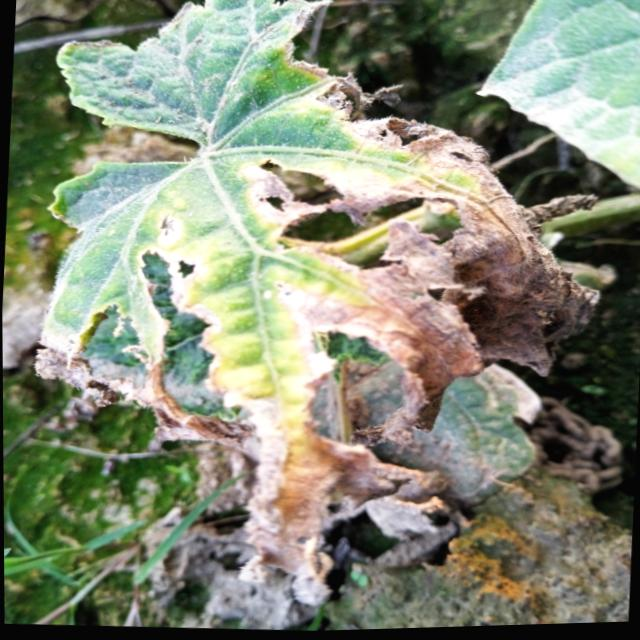Anthracnose: (257, 158, 468, 272), (156, 207, 184, 240), (176, 254, 201, 281)
